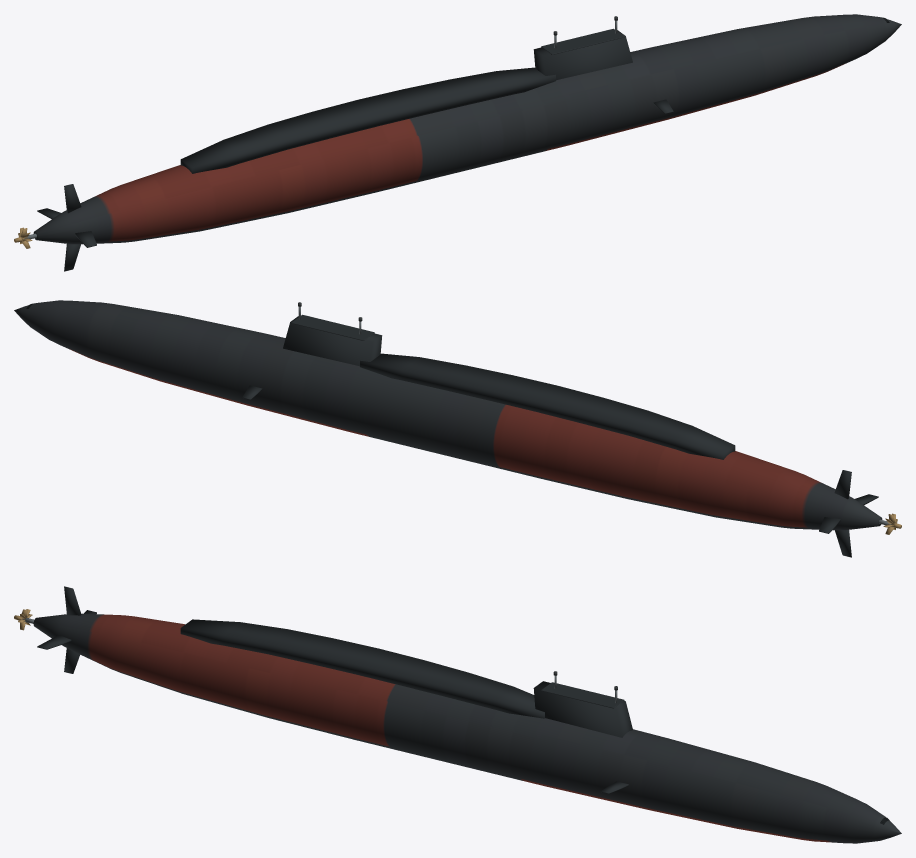
File: RU_SSBN_DeltaII_LOD2.fbx
The picture shows the model from 3 angles, top to bottom: view 1: azimuth 30°, elevation 25°; view 2: azimuth 150°, elevation 25°; view 3: azimuth 330°, elevation 25°; orthographic projection.
Parts seen in each view (by area): view 1: RU_SSBN_DeltaII_LOD2; view 2: RU_SSBN_DeltaII_LOD2; view 3: RU_SSBN_DeltaII_LOD2.
Part boxes in pixels (left/top/right/bottom): RU_SSBN_DeltaII_LOD2: left=14, top=14, right=901, bottom=271; RU_SSBN_DeltaII_LOD2: left=14, top=300, right=901, bottom=557; RU_SSBN_DeltaII_LOD2: left=14, top=586, right=901, bottom=843.
Bounding box in the file's own units: 159 × 20.06 × 20.46.
Materials: 6 (1 with a texture image).
